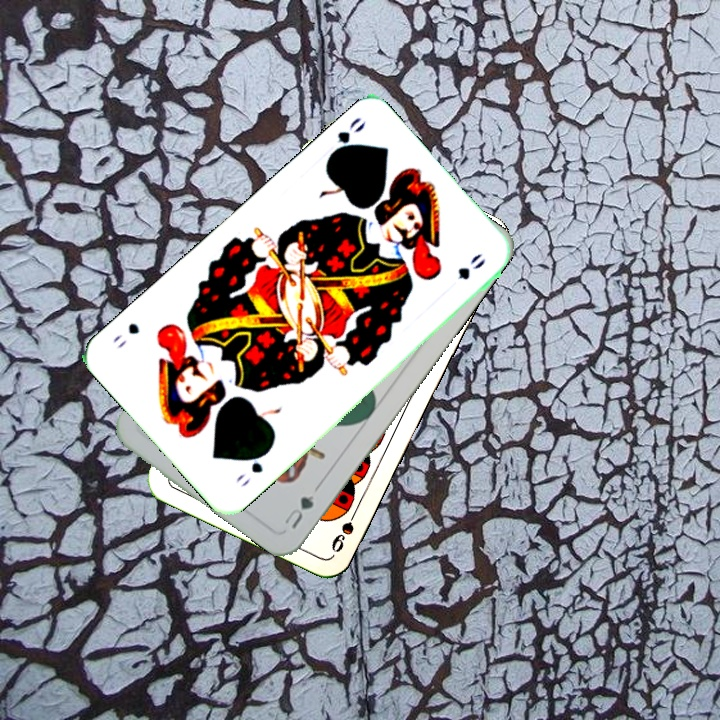GO: (323, 113, 369, 162), (232, 446, 272, 490)
GU: (279, 491, 317, 532)
S9: (327, 500, 363, 555)
